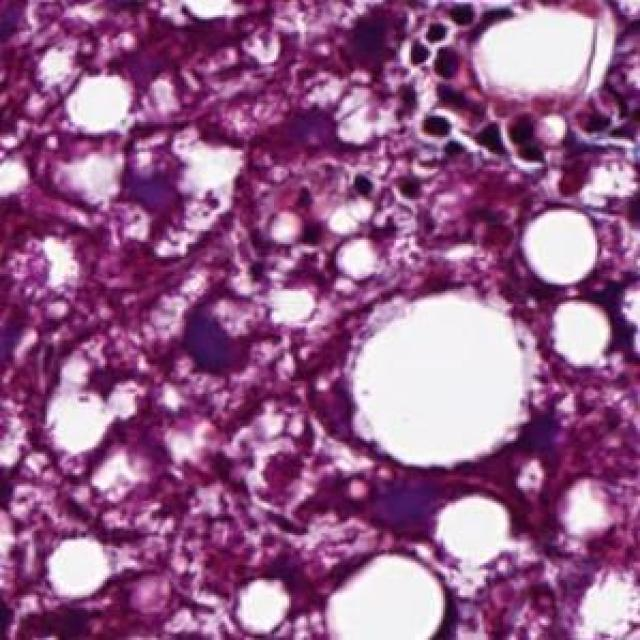inflammation: (383, 73, 548, 184), (387, 0, 484, 75), (342, 169, 432, 248)
